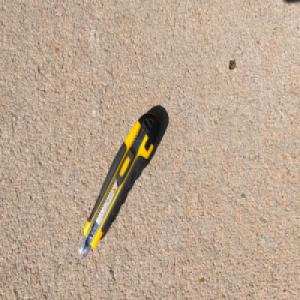Cutter: (79, 110, 164, 260)
